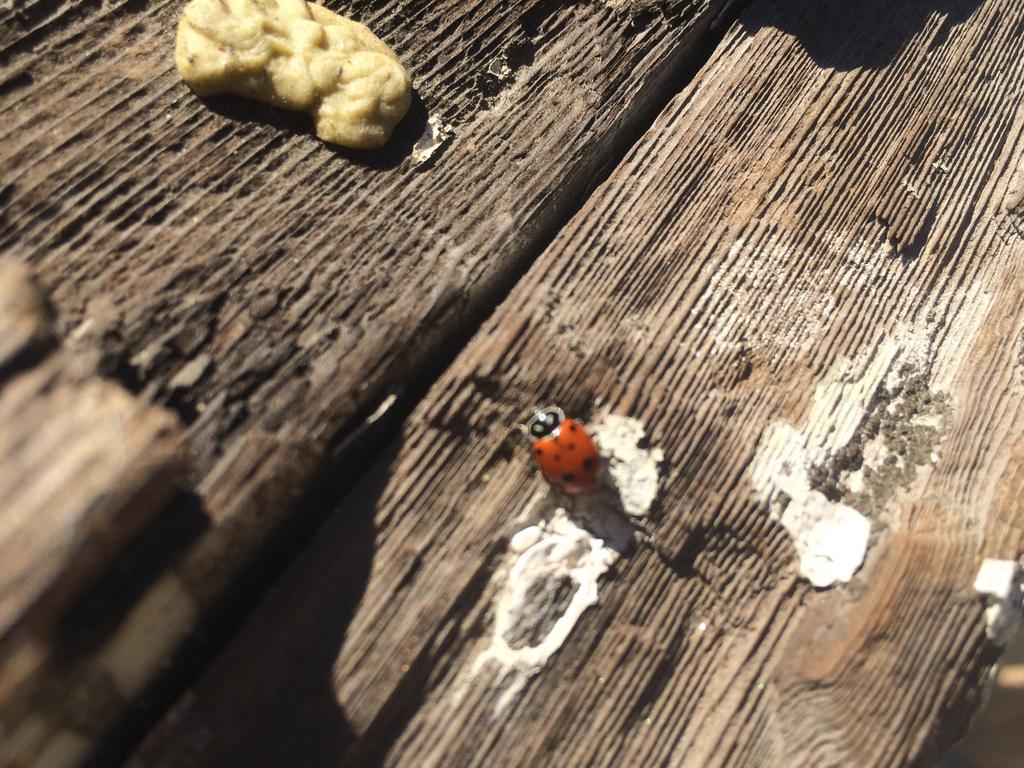ladybug: (511, 400, 616, 507)
